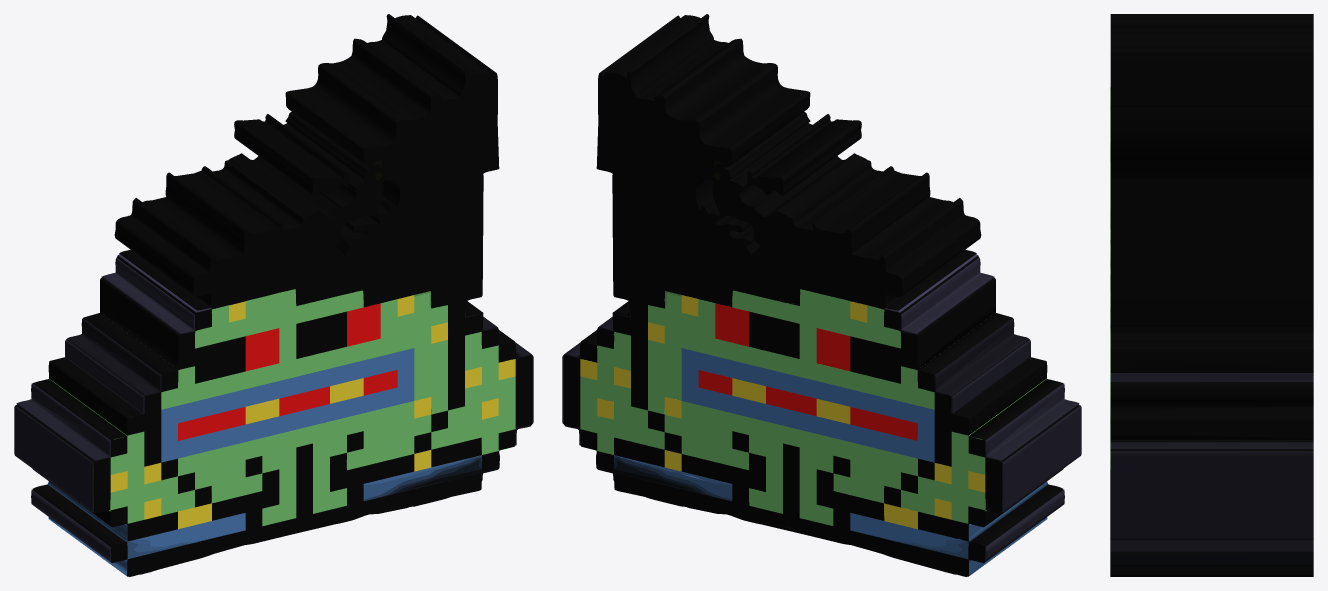
File: Toadz_320.glb
3 renders of one model, left to right at view 1: azimuth 30°, elevation 25°; view 2: azimuth 150°, elevation 25°; view 3: azimuth 270°, elevation 25°, orthographic. The views are drawn at different scales.
Visible parts, largest first — view 1: Curve; view 2: Curve; view 3: Curve.
Part boxes in pixels (x1,y1,x2,y2): Curve: (14, 14, 533, 576); Curve: (562, 14, 1081, 576); Curve: (1110, 14, 1313, 576).
Size of the model in its own units: 3.25 by 2.99 by 1.
